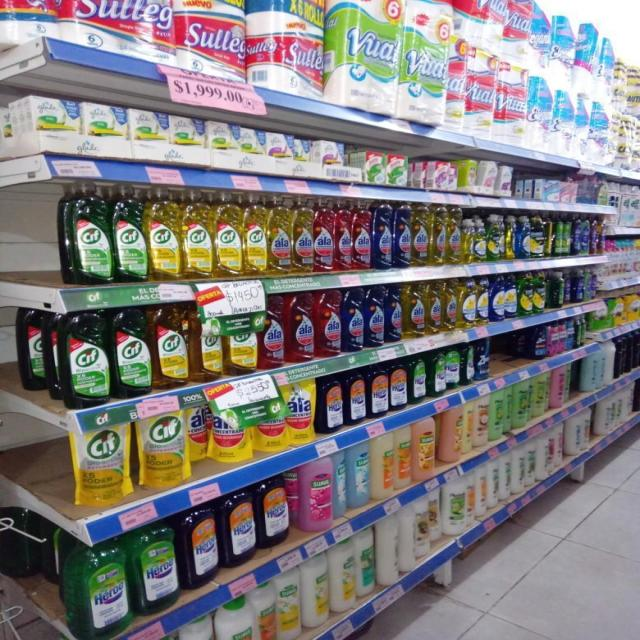ala_conc_amarillo: (268, 196, 292, 276), (293, 198, 313, 273), (403, 282, 424, 338), (412, 204, 429, 268), (430, 204, 446, 266), (446, 206, 462, 265), (425, 280, 441, 334), (441, 279, 457, 331)
ala_conc_azul: (342, 288, 364, 352), (373, 200, 393, 270), (365, 286, 384, 348), (394, 202, 411, 268), (385, 284, 402, 343)
ala_conc_rojo: (286, 292, 314, 363), (259, 294, 284, 369), (315, 290, 341, 357), (314, 198, 334, 273), (353, 200, 372, 270), (335, 200, 352, 272)
cif_conc_bot_amarilla: (147, 188, 180, 282), (153, 302, 188, 390), (182, 190, 212, 280), (190, 303, 223, 383), (214, 192, 242, 278), (226, 307, 256, 376), (243, 194, 267, 276)
cif_conc_botella_verde: (60, 309, 109, 408), (66, 183, 110, 286), (112, 306, 151, 399), (112, 185, 146, 284), (18, 307, 53, 393)
cif_conc_sachet_amarillo: (74, 422, 130, 507), (137, 408, 186, 488), (186, 403, 208, 463)
magistral_con_amarillo: (458, 278, 476, 328), (468, 218, 486, 264), (476, 278, 489, 324)
